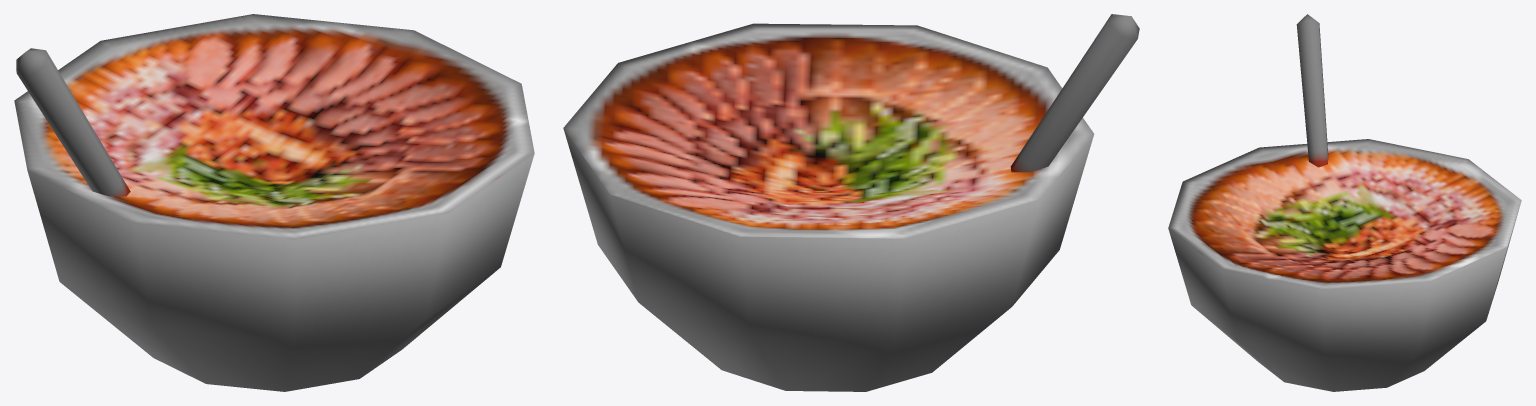
Rendered from BudaejjigaeBowl.FBX.
The picture shows the model from 3 angles, left to right: view 1: azimuth 30°, elevation 25°; view 2: azimuth 150°, elevation 25°; view 3: azimuth 270°, elevation 25°; orthographic projection. The views are drawn at different scales.
Visible parts, largest first — view 1: CakeBatter001; view 2: CakeBatter001; view 3: CakeBatter001.
Part boxes in pixels (bbox=[...]): CakeBatter001: bbox=[14, 14, 534, 391]; CakeBatter001: bbox=[563, 14, 1139, 391]; CakeBatter001: bbox=[1168, 14, 1521, 391].
Bounding box in the file's own units: 51.05 × 35.35 × 45.22.
